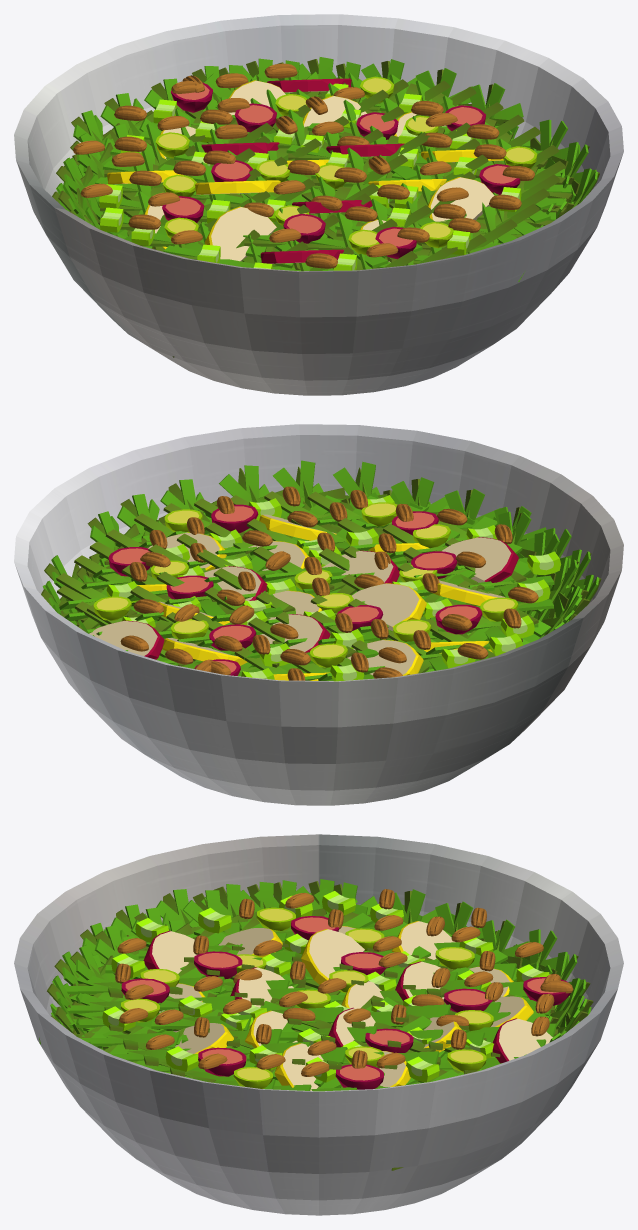
The model's file is Bowl Ingredientes.fbx.
3 views of the same model, one above another, from view 1: azimuth 30°, elevation 25°; view 2: azimuth 150°, elevation 25°; view 3: azimuth 270°, elevation 25° (orthographic).
Visible parts, largest first — view 1: Bowl, Lechuga Ensalada, NuezPlatoGroup, UvaVerdeCortadaGroup, Manzana(A)CortadaGroup, ApioCortadoGroup; view 2: Bowl, Lechuga Ensalada, Manzana(A)CortadaGroup, NuezPlatoGroup, UvaVerdeCortadaGroup, ApioCortadoGroup; view 3: Bowl, Lechuga Ensalada, Manzana(A)CortadaGroup, NuezPlatoGroup, UvaVerdeCortadaGroup, ApioCortadoGroup.
Boxes of the visible parts, <box> form: Bowl: <box>14,14,623,395</box>; Lechuga Ensalada: <box>52,57,599,357</box>; NuezPlatoGroup: <box>73,63,534,268</box>; UvaVerdeCortadaGroup: <box>155,76,537,258</box>; Manzana(A)CortadaGroup: <box>107,78,503,263</box>; ApioCortadoGroup: <box>99,83,521,270</box>; Bowl: <box>14,424,623,805</box>; Lechuga Ensalada: <box>41,460,601,680</box>; Manzana(A)CortadaGroup: <box>89,514,518,680</box>; NuezPlatoGroup: <box>120,486,538,680</box>; UvaVerdeCortadaGroup: <box>93,502,518,675</box>; ApioCortadoGroup: <box>106,495,561,681</box>; Bowl: <box>14,834,623,1215</box>; Lechuga Ensalada: <box>39,879,593,1170</box>; Manzana(A)CortadaGroup: <box>143,921,552,1090</box>; NuezPlatoGroup: <box>115,889,573,1076</box>; UvaVerdeCortadaGroup: <box>120,907,570,1089</box>; ApioCortadoGroup: <box>102,891,549,1082</box>.
Bounding box in the file's own units: 40.94 × 14.35 × 40.94.
